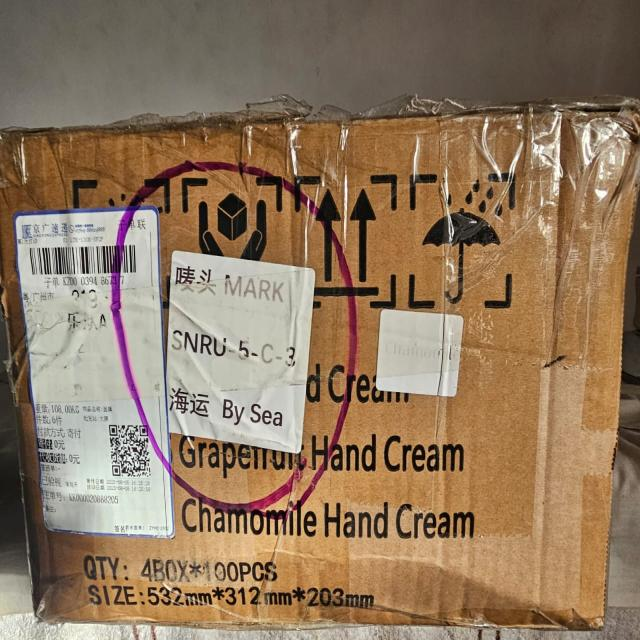carton_box: (2, 100, 640, 640)
export_mark_label: (9, 209, 178, 543), (168, 238, 318, 466)
handle_with_care_label: (179, 182, 293, 305)
keep_dry_label: (410, 160, 518, 312)
this_side_up_label: (300, 168, 395, 301)
